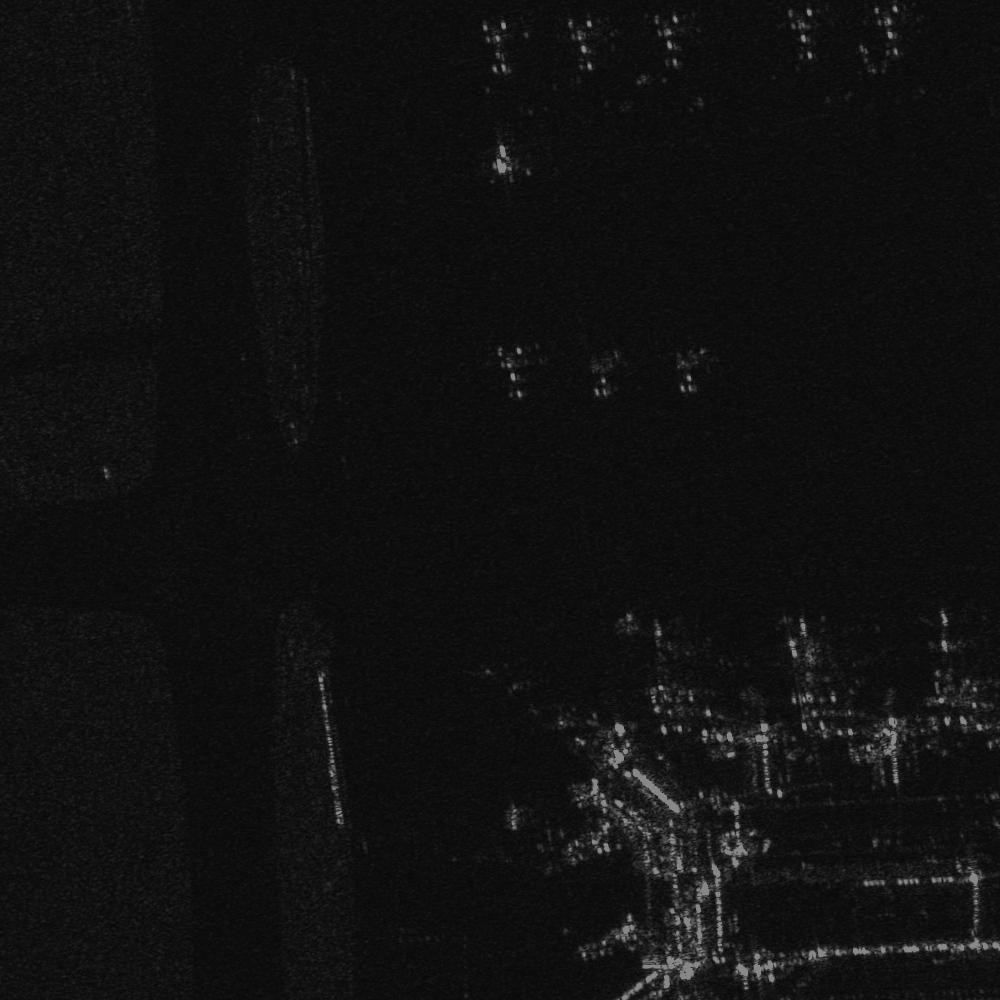A220: (776, 610, 842, 706), (581, 346, 627, 405)
A320/321: (658, 342, 710, 404)
ARJ21: (489, 343, 550, 406), (485, 128, 533, 182)
Boeing787: (915, 603, 974, 683)
other: (630, 610, 709, 720), (555, 13, 604, 81), (648, 7, 696, 71), (776, 5, 826, 64), (478, 14, 517, 78)
